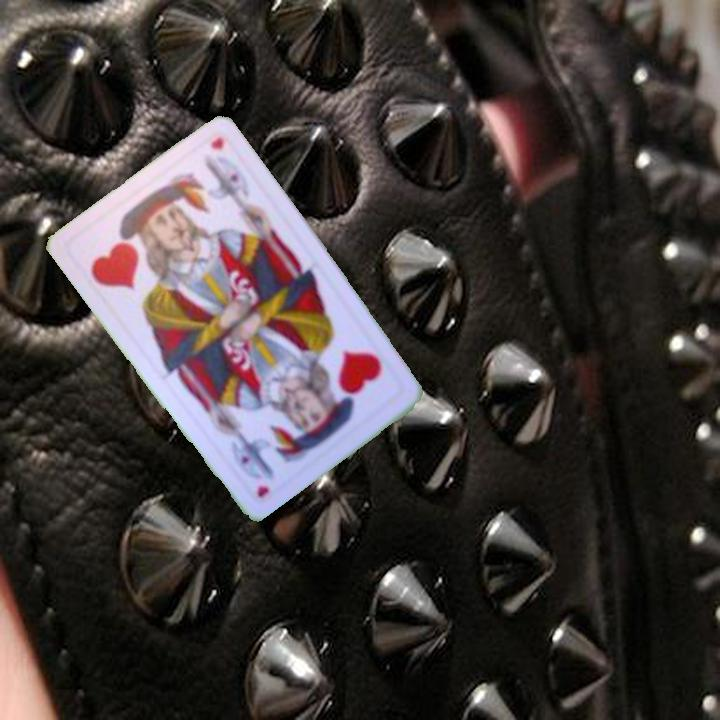h_j.png: (64, 187, 194, 314), (280, 322, 409, 448)
